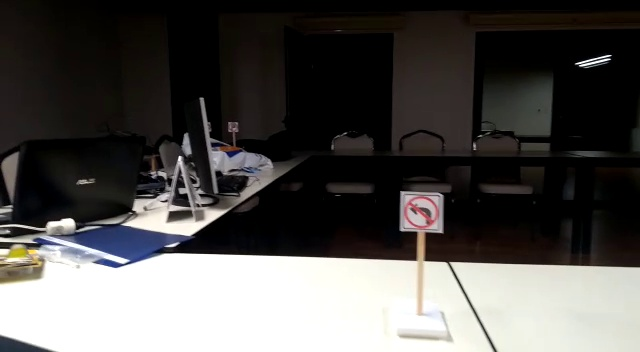sola_donulmez: (399, 193, 444, 232)
